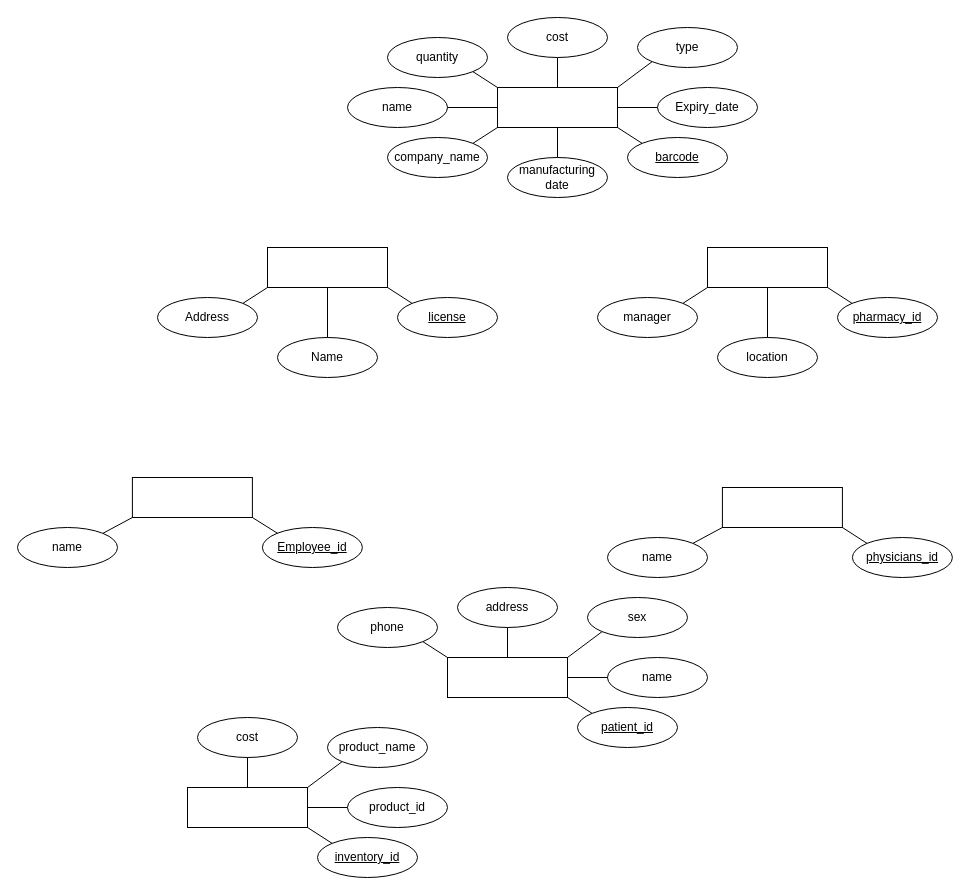
The diagram is 970 pixels wide and 895 high, and some of its shapes have lost their labels. The centre of each missing label's shape, as x and y in pixels:
"doctor" belongs at [781,507].
"Drug_company" belongs at [327,267].
"Drugs" belongs at [557,107].
"Employee" belongs at [191,497].
"inventory" belongs at [247,807].
"Patient" belongs at [507,677].
"Pharmacy" belongs at [767,267].
